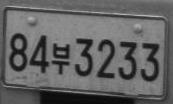2: (95, 38, 115, 78)
3: (139, 42, 160, 82), (117, 40, 137, 80), (74, 37, 93, 77)
4: (28, 34, 49, 73)
8: (7, 32, 28, 72)
부: (51, 42, 70, 75)
